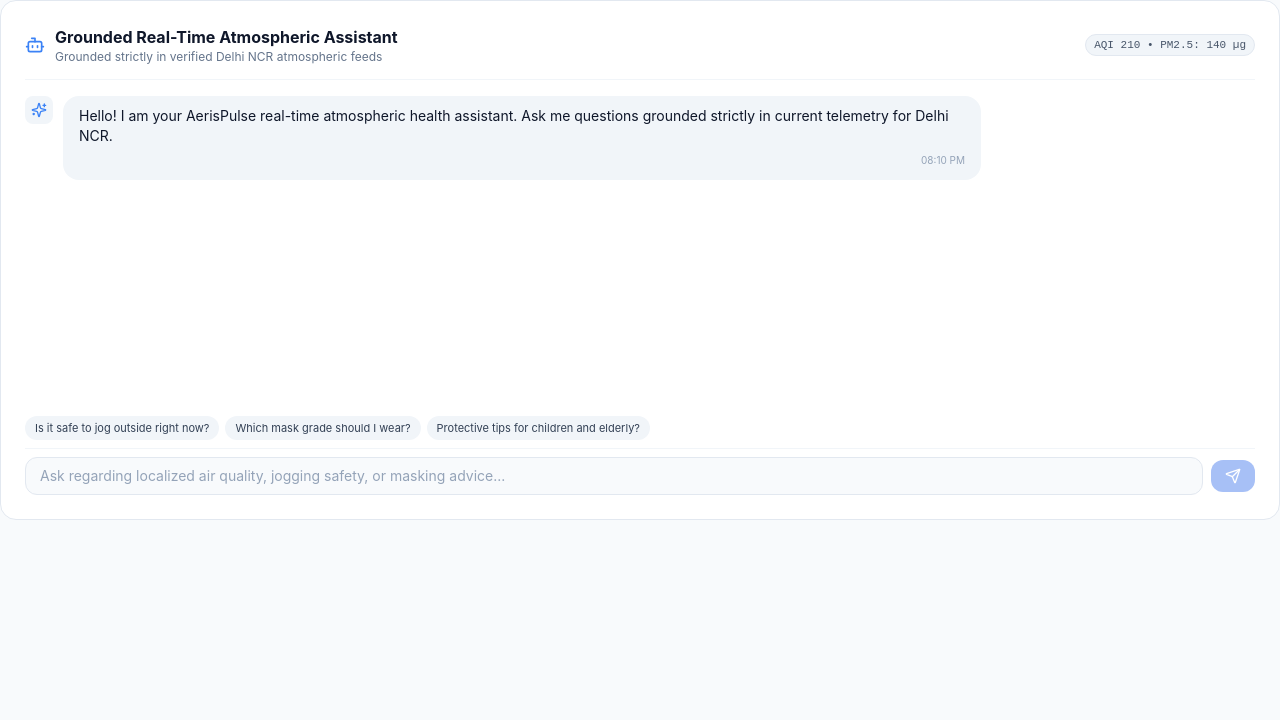
StreamingChat handleSend Integration › sends user message and processes streaming chunks
Replace the text in the field with "What should I do?" at (614, 476), box x1=25 y1=457 x2=1203 y2=495
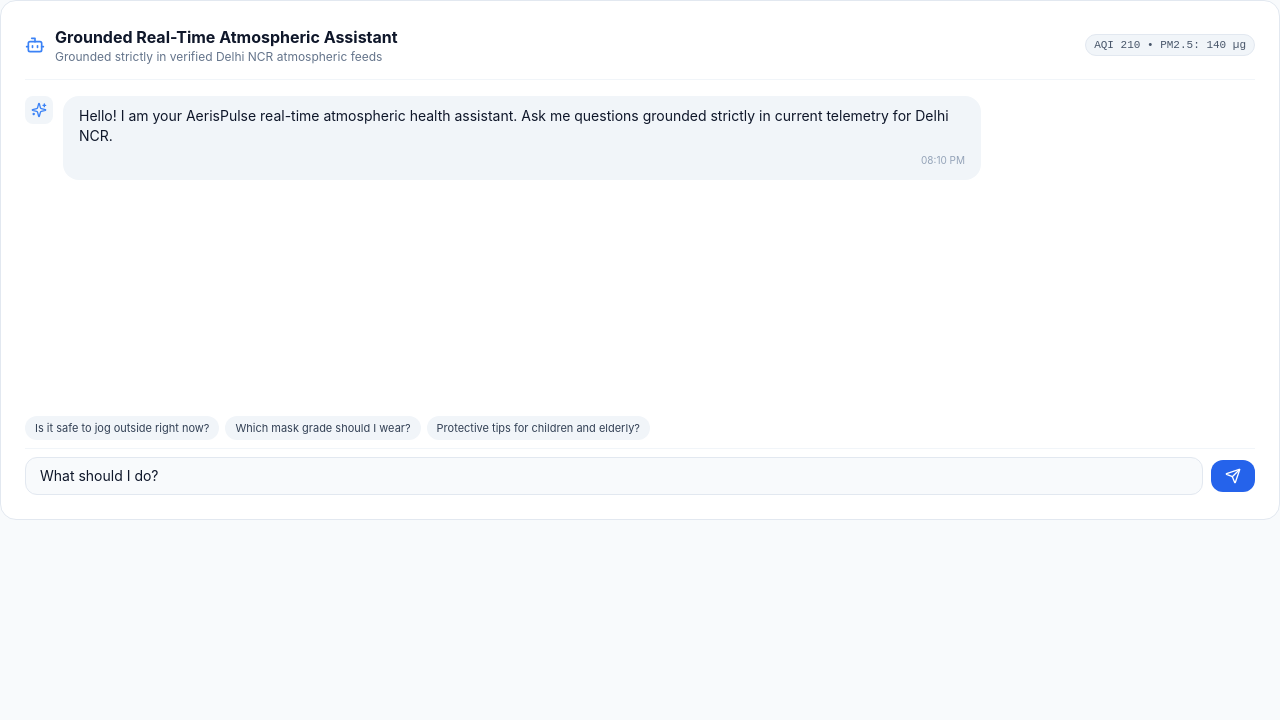
Click the button named "Send" at (1233, 476), box x1=1211 y1=460 x2=1255 y2=492
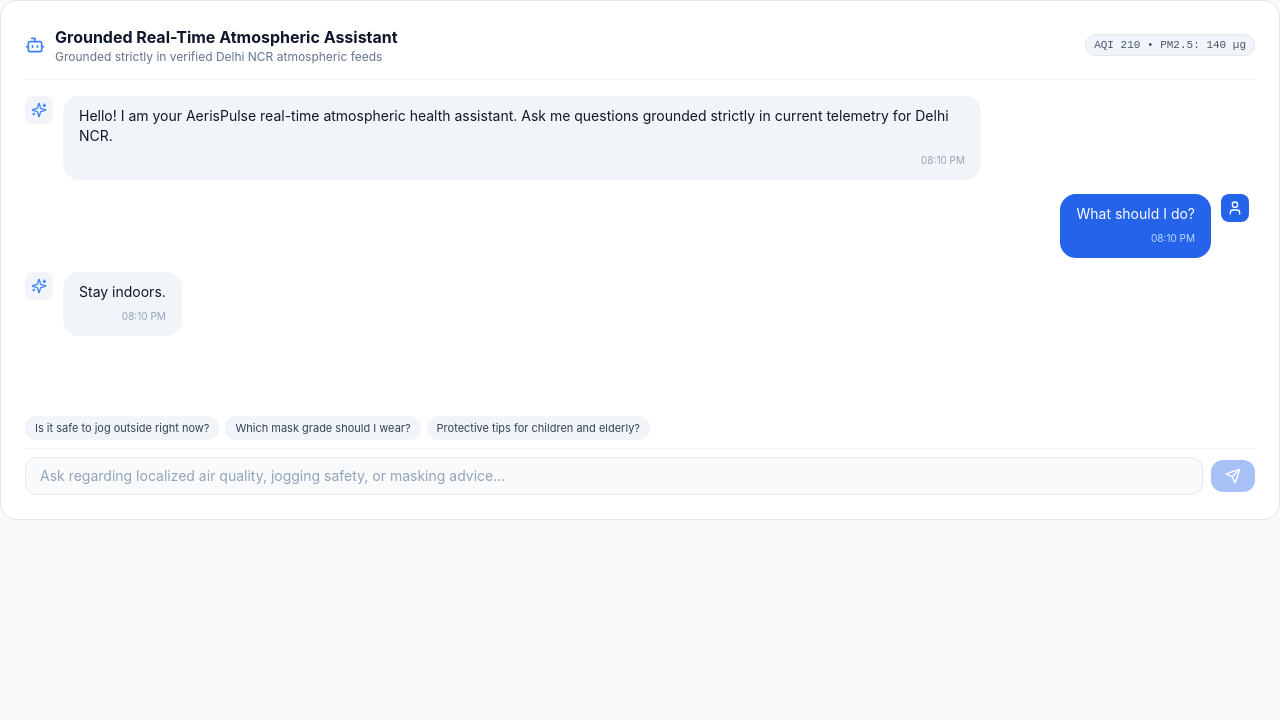
Now the text "Stay indoors." is shown, box x1=79 y1=282 x2=166 y2=302
